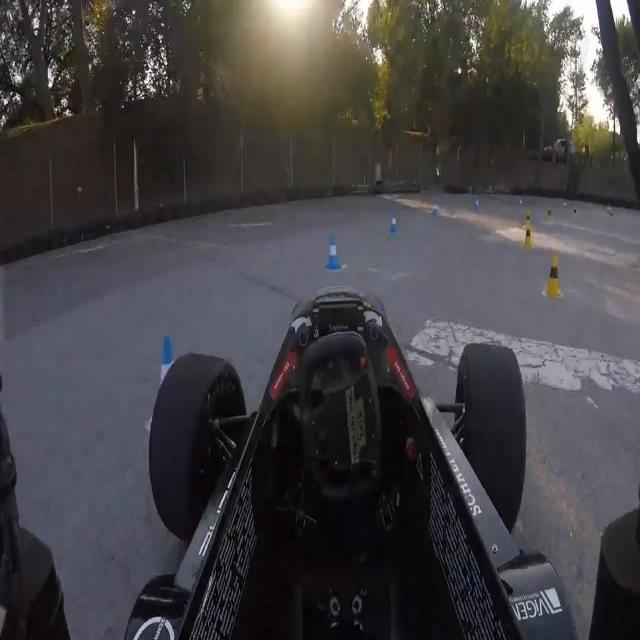blue_cone: (148, 321, 182, 409), (322, 228, 350, 274), (387, 203, 404, 243)
yellow_cone: (542, 252, 565, 300), (522, 212, 534, 254)
